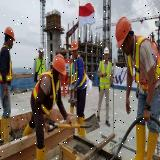Helmet: (116, 17, 132, 48), (52, 54, 67, 78), (4, 27, 15, 43), (71, 39, 78, 51), (38, 44, 44, 54), (104, 47, 110, 55)
Vest: (125, 34, 160, 89), (33, 70, 60, 117), (0, 44, 13, 85), (73, 58, 87, 86), (100, 60, 111, 90), (35, 56, 46, 80)
